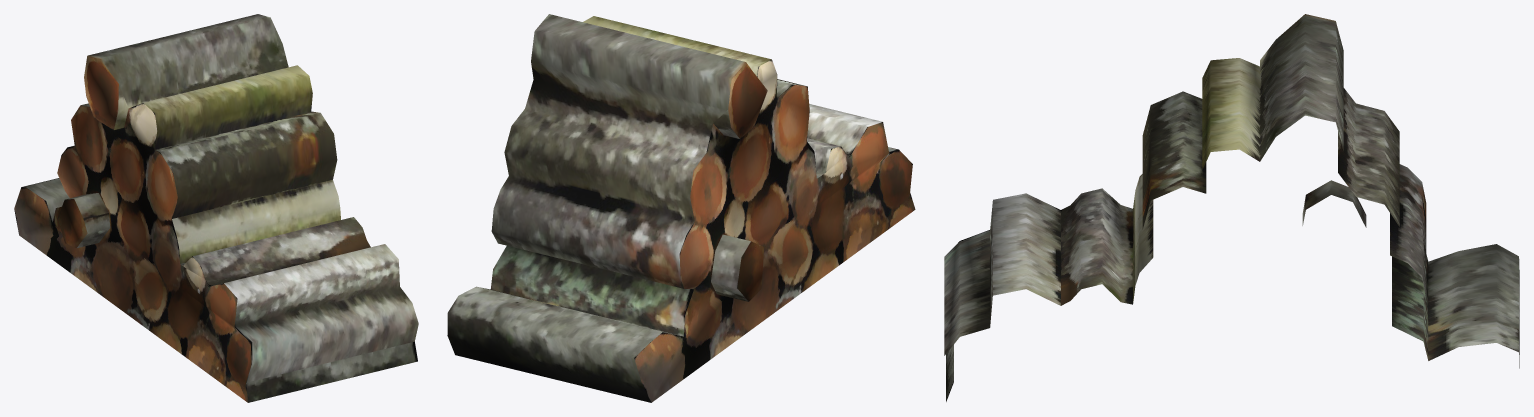
File: woodpile_low.glb
3 views of the same model, side by side, from view 1: azimuth 30°, elevation 25°; view 2: azimuth 150°, elevation 25°; view 3: azimuth 270°, elevation 25° (orthographic). The views are drawn at different scales.
Visible parts, largest first — view 1: Woodpile.jpg__; view 2: Woodpile.jpg__; view 3: Woodpile.jpg__.
Boxes of the visible parts, left/top/right/bottom form: Woodpile.jpg__: left=14, top=14, right=418, bottom=402; Woodpile.jpg__: left=447, top=14, right=915, bottom=402; Woodpile.jpg__: left=944, top=14, right=1519, bottom=401.
Size of the model in its own units: 2.05 by 2.44 by 4.43.
1 material, 1 textured.
